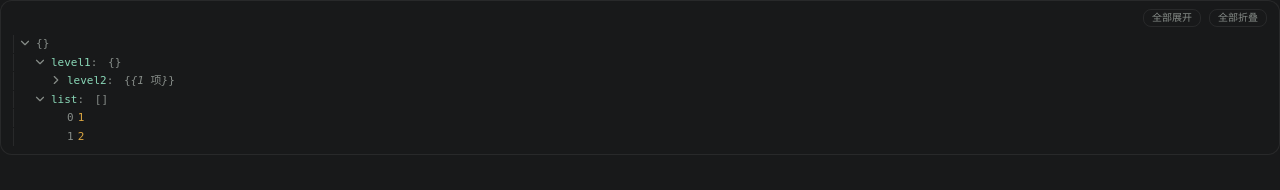
Test: JsonViewer 组件 › 默认展开根与第一层，折叠节点显示摘要且不渲染深层子树，可逐级展开 / 收起
Check: the text "level1" is shown, box [51, 54, 104, 71]
Check: the text "level2" is shown, box [67, 72, 120, 90]
Click the button named "展开/收起" at (56, 80), box [49, 72, 63, 88]
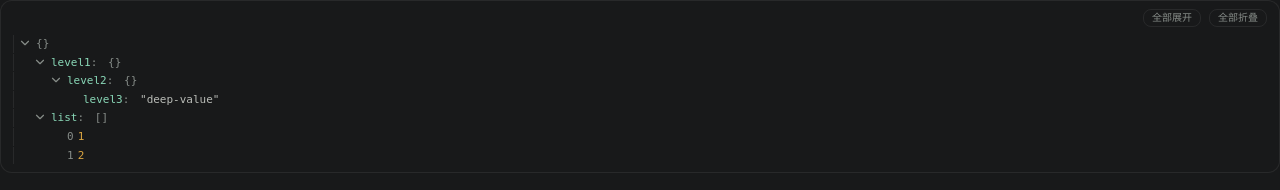
Check: the button named "展开/收起" is expanded, box [49, 72, 63, 88]
Check: the text "\"deep-value\"" is shown, box [140, 91, 220, 108]
// 收起第一层的 level1：其子行（含 level2）整体从 DOM 移除。
Click the button named "展开/收起" at (40, 62), box [33, 54, 47, 70]
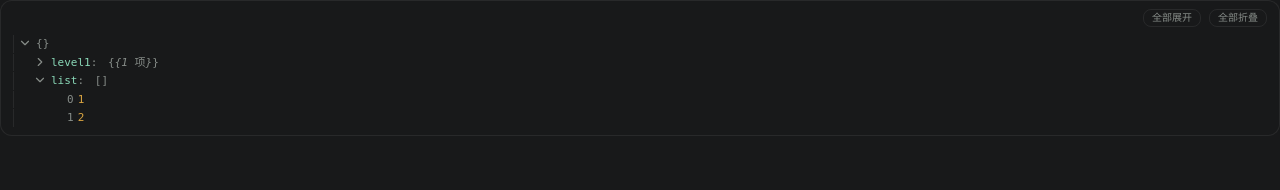
Check: the text "level2" is gone
Check: the text "deep-value" is gone
Check: the text "{1 项}" is shown, box [115, 54, 152, 71]
